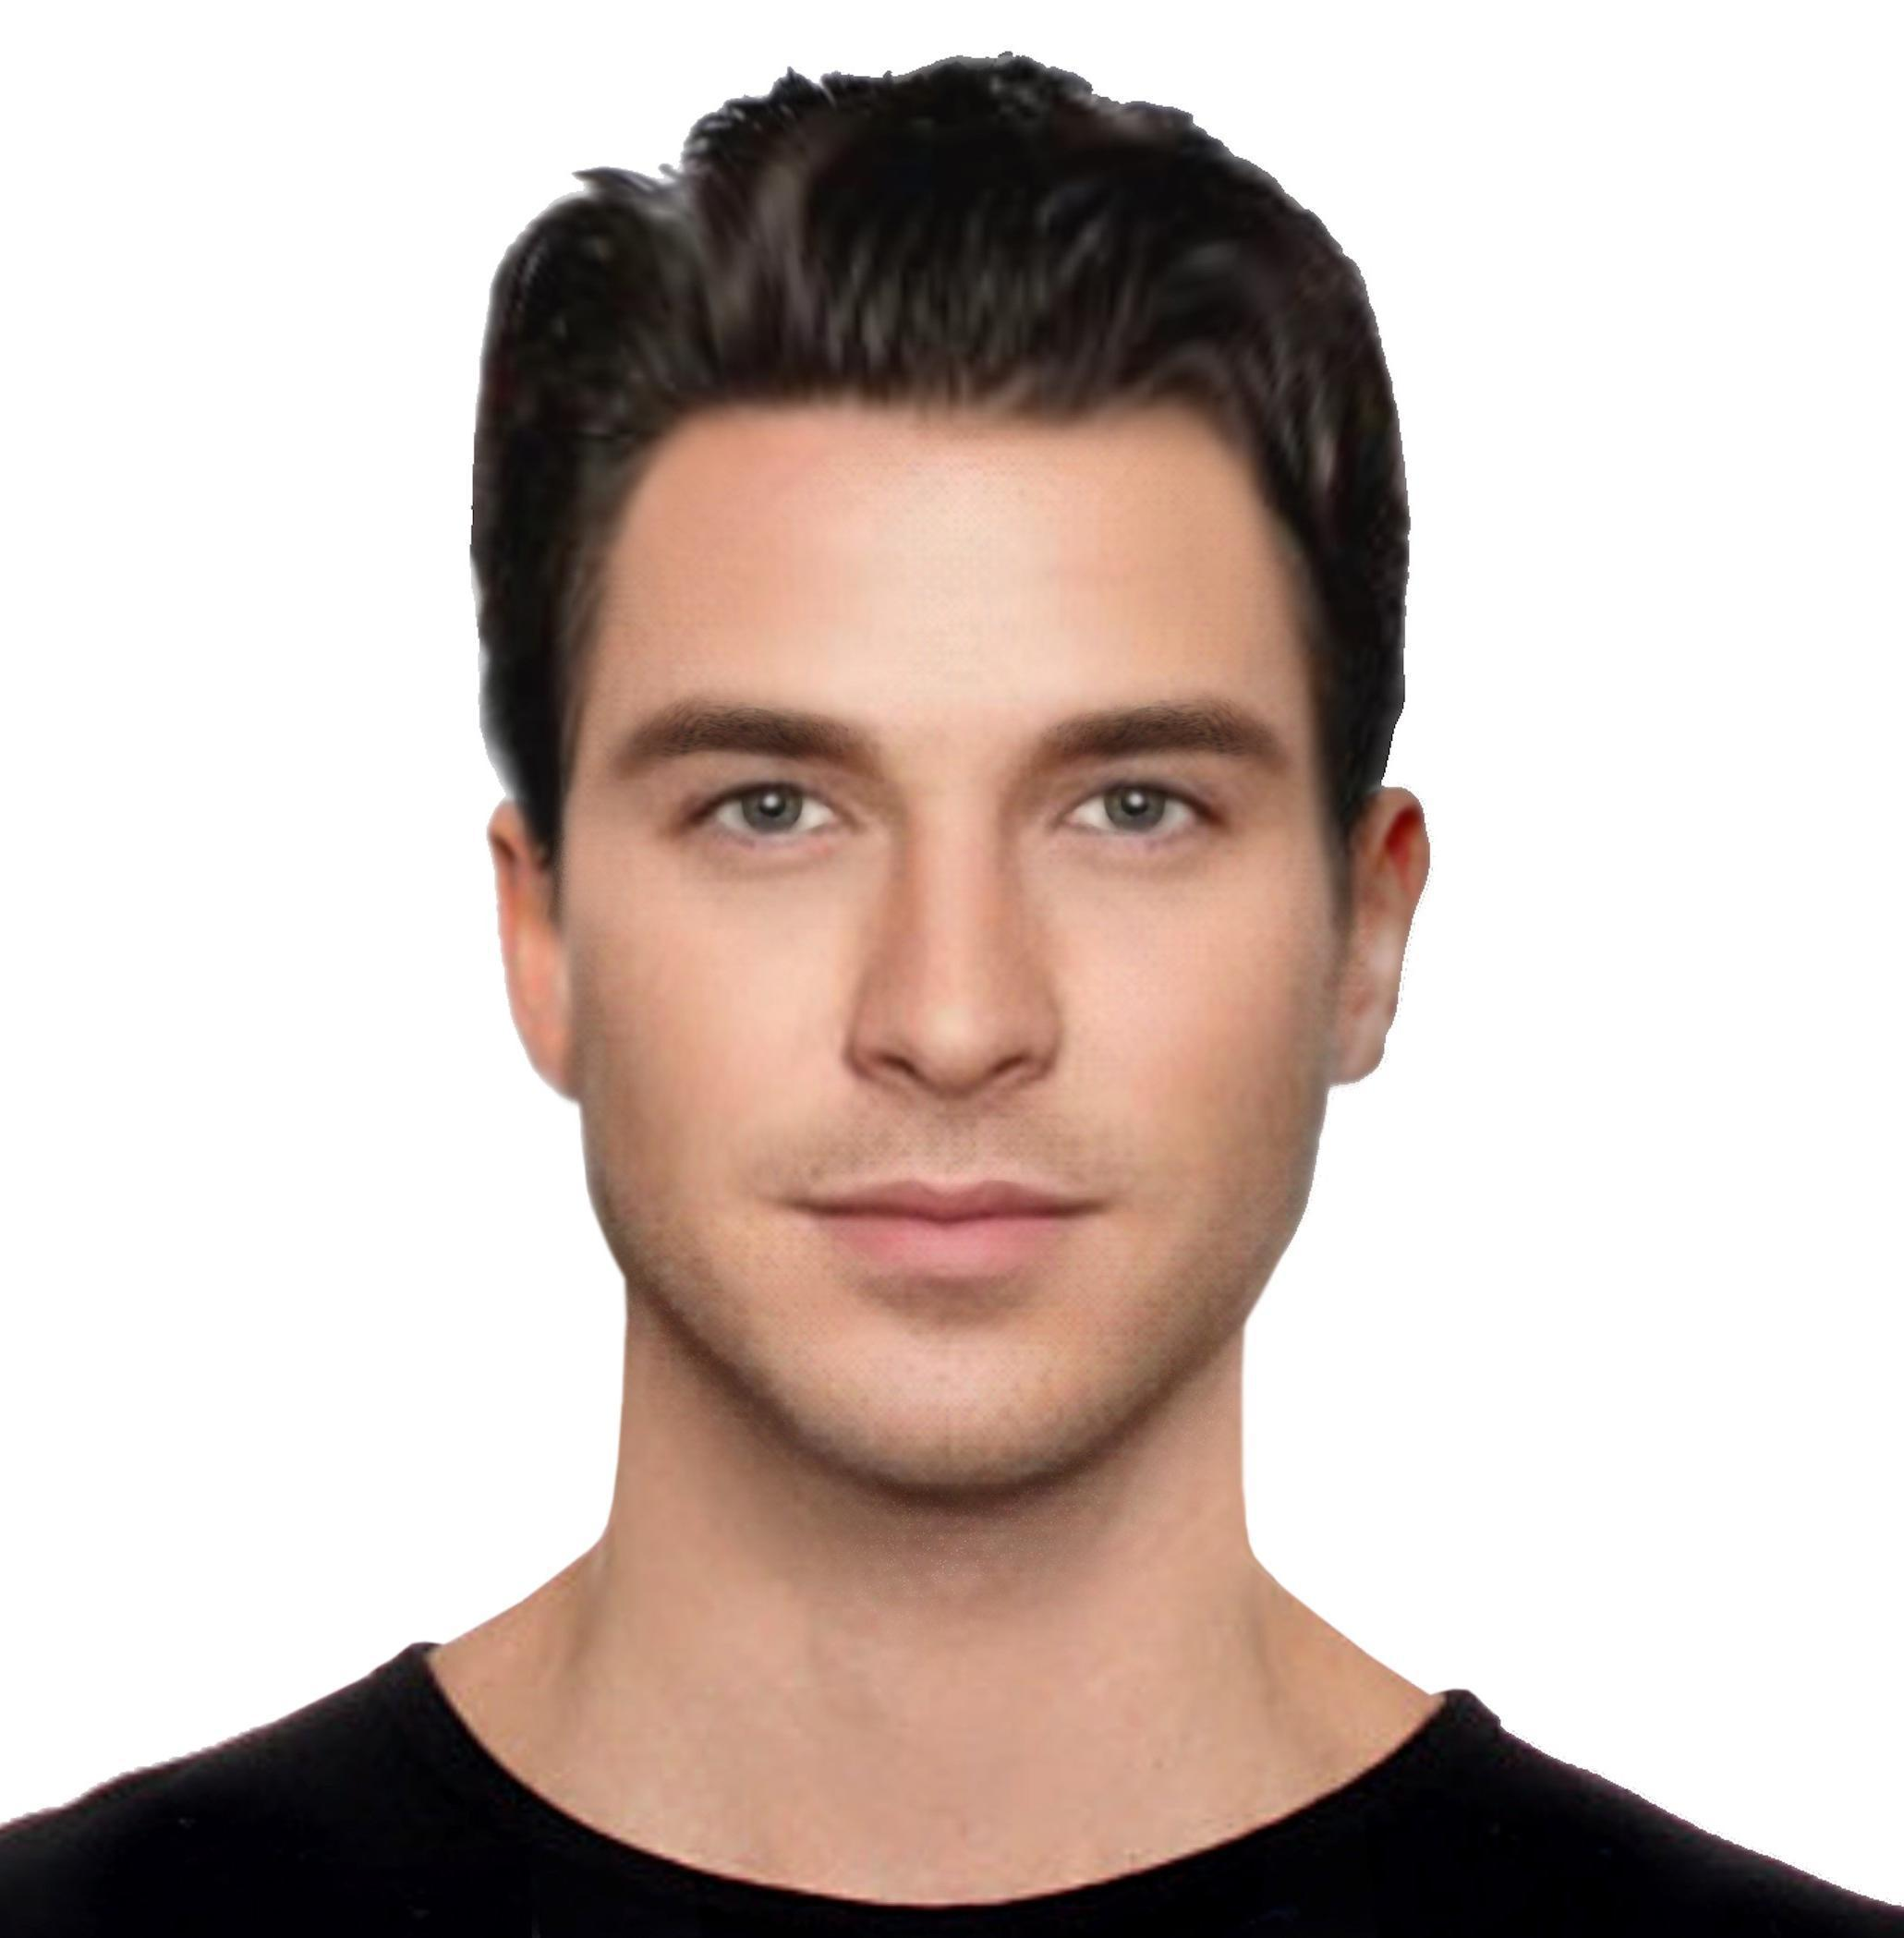Sober: (593, 523, 1327, 1330)
